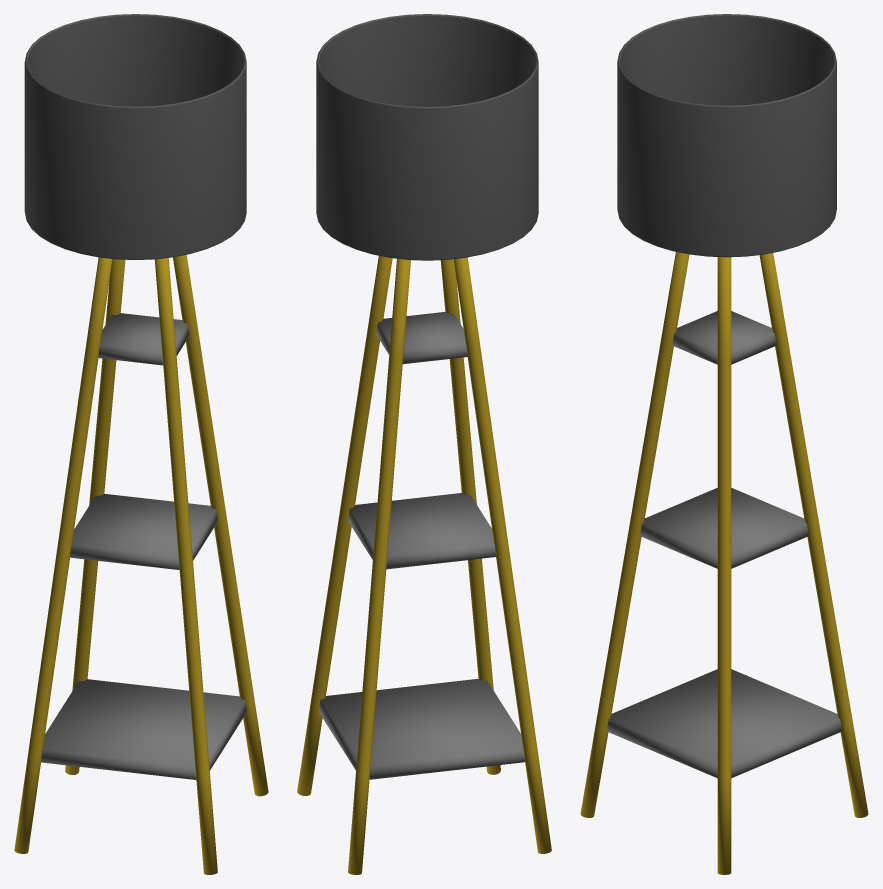
The model's file is lamp.obj.
3 renders of one model, left to right at view 1: azimuth 30°, elevation 25°; view 2: azimuth 150°, elevation 25°; view 3: azimuth 270°, elevation 25°, orthographic.
Visible parts, largest first — view 1: Cylinder001, Shape001, Cone001; view 2: Cylinder001, Shape001, Cone001; view 3: Cylinder001, Shape001, Cone001.
Boxes of the visible parts, x1=… form: Cylinder001: x1=24, y1=14, x2=246, y2=259; Shape001: x1=14, y1=255, x2=268, y2=874; Cone001: x1=41, y1=313, x2=246, y2=779; Cylinder001: x1=316, y1=14, x2=538, y2=260; Shape001: x1=297, y1=256, x2=551, y2=874; Cone001: x1=318, y1=311, x2=525, y2=779; Cylinder001: x1=617, y1=14, x2=836, y2=257; Shape001: x1=580, y1=252, x2=868, y2=874; Cone001: x1=606, y1=311, x2=842, y2=778.
Bounding box in the file's own units: 20.67 × 59.71 × 20.67.
